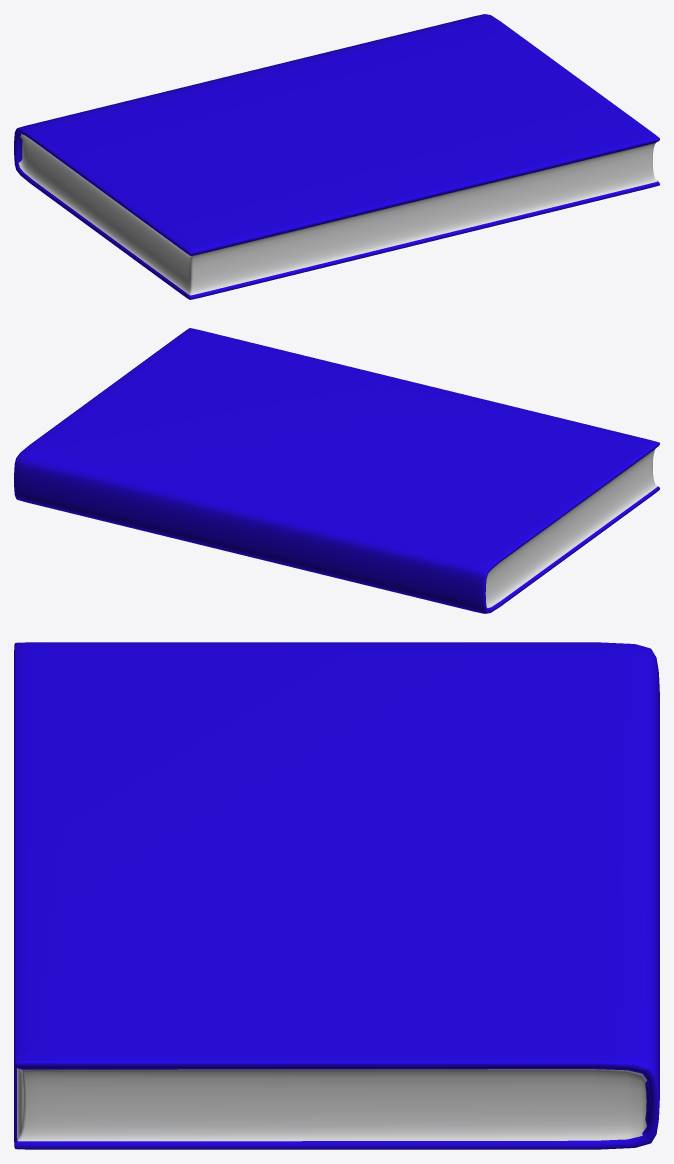
The model's file is softBook.fbx.
3 views of the same model, one above another, from view 1: azimuth 30°, elevation 25°; view 2: azimuth 150°, elevation 25°; view 3: azimuth 270°, elevation 25° (orthographic). The views are drawn at different scales.
Visible parts, largest first — view 1: Cube.005; view 2: Cube.005; view 3: Cube.005.
Boxes of the visible parts, bbox=[...] form: Cube.005: bbox=[14, 14, 659, 299]; Cube.005: bbox=[14, 328, 659, 613]; Cube.005: bbox=[14, 642, 659, 1149].
Size of the model in its own units: 19.99 by 1.99 by 12.97.
